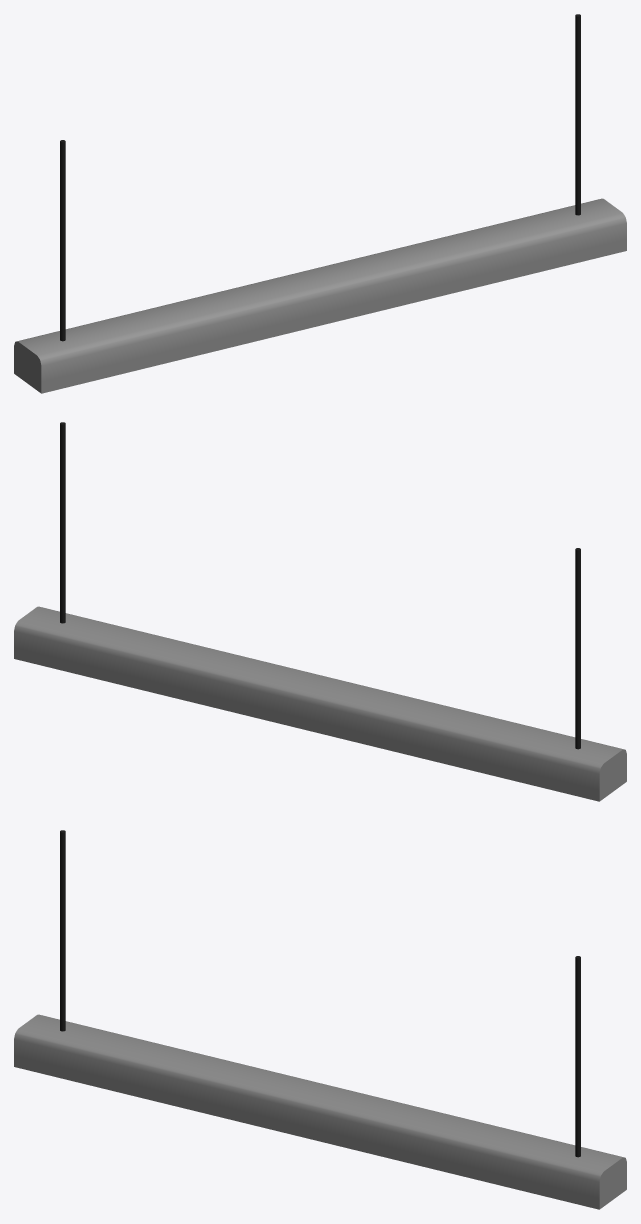
File: SM_lamp_industrial_01.fbx
3 renders of one model, top to bottom at view 1: azimuth 30°, elevation 25°; view 2: azimuth 150°, elevation 25°; view 3: azimuth 330°, elevation 25°, orthographic.
Parts seen in each view (by area): view 1: lamp_industrial_01; view 2: lamp_industrial_01; view 3: lamp_industrial_01.
Part boxes in pixels (box(x1,y1,x2,y2)): lamp_industrial_01: box(14, 14, 626, 393); lamp_industrial_01: box(14, 422, 626, 801); lamp_industrial_01: box(14, 830, 626, 1209).
Size of the model in its own units: 233 by 89.15 by 18.97.
